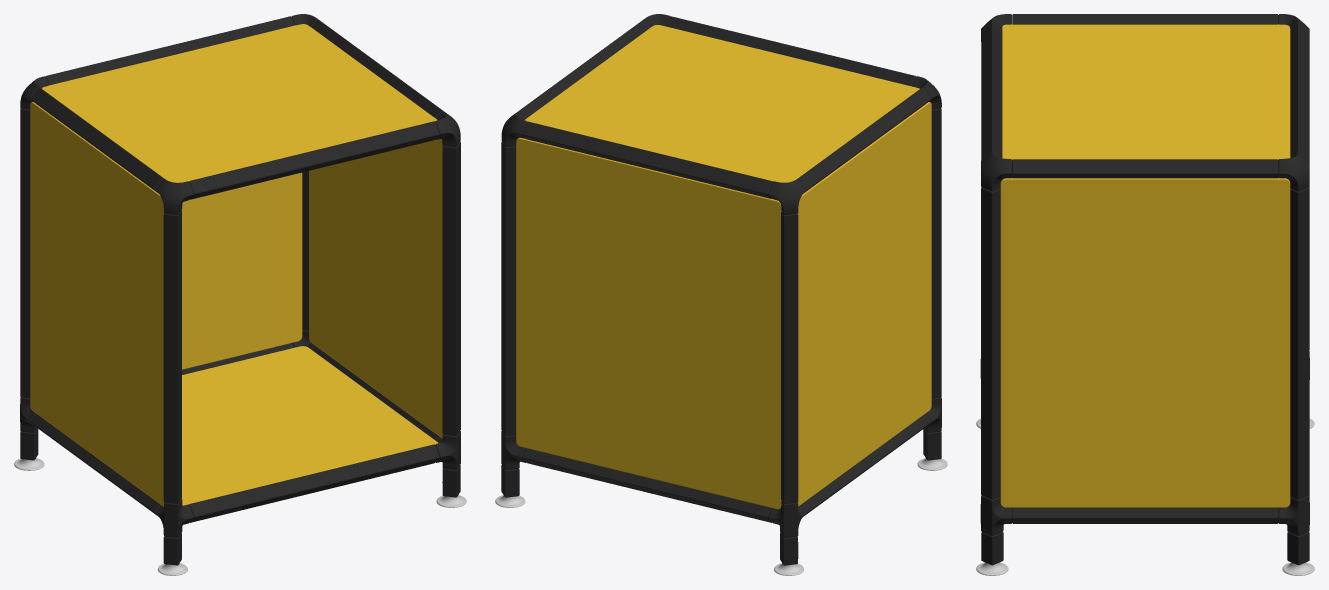
The picture shows the model from 3 angles, left to right: view 1: azimuth 30°, elevation 25°; view 2: azimuth 150°, elevation 25°; view 3: azimuth 270°, elevation 25°; orthographic projection. The views are drawn at different scales.
Visible parts, largest first — view 1: 374x329x420; view 2: 374x329x420; view 3: 374x329x420.
Boxes of the visible parts, x1,y1,x2,y2 form: 374x329x420: [14, 14, 466, 575]; 374x329x420: [495, 14, 947, 575]; 374x329x420: [976, 14, 1314, 575].
Bounding box in the file's own units: 0.4639 × 0.5593 × 0.4182.
